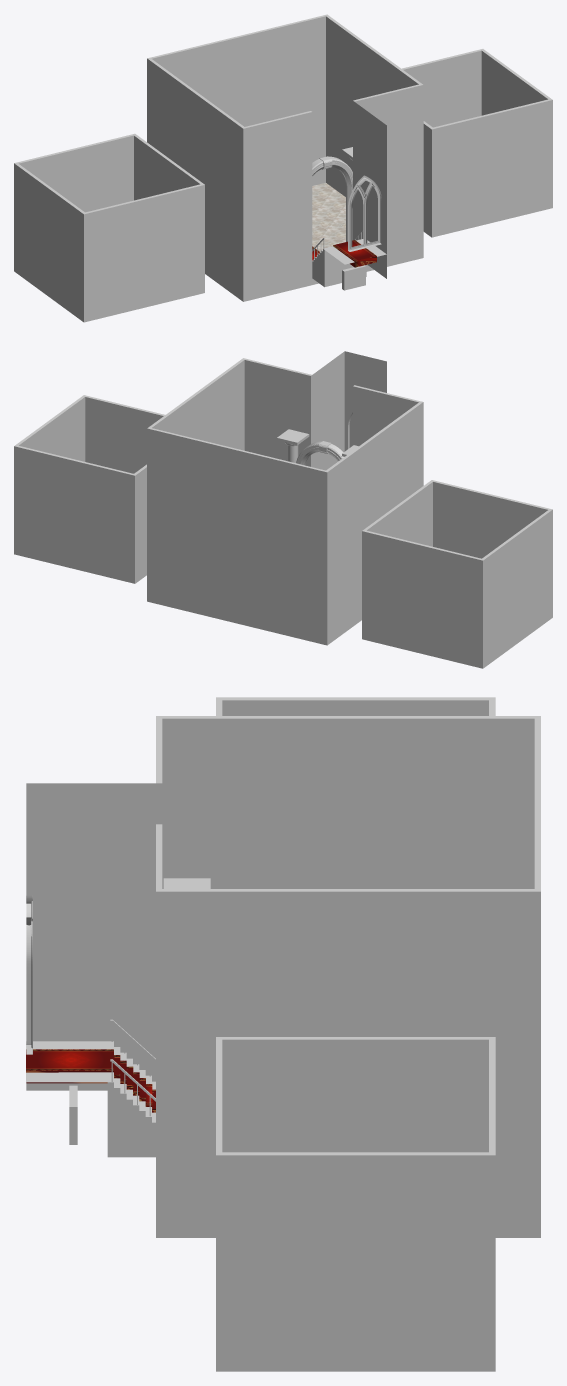
File: main_map.glb
3 views of the same model, one above another, from view 1: azimuth 30°, elevation 25°; view 2: azimuth 150°, elevation 25°; view 3: azimuth 270°, elevation 25° (orthographic). The views are drawn at different scales.
Visible parts, largest first — view 1: Main, Room 2, Kitchen, Main.001, Main Floor, Stairs, Window, Arch, Carpet; view 2: Main, Room 2, Kitchen, Main.001, Left Cylinder, Arch; view 3: Main, Kitchen, Main.001, Room 2, Stairs, Carpet, Window.
Boxes of the visible parts, <box> form: Main: <box>147,14,423,301</box>; Room 2: <box>14,133,204,322</box>; Kitchen: <box>402,49,552,237</box>; Main.001: <box>354,102,386,278</box>; Main Floor: <box>312,182,345,251</box>; Stairs: <box>312,239,386,287</box>; Window: <box>348,175,381,251</box>; Arch: <box>312,156,352,241</box>; Carpet: <box>312,240,376,267</box>; Main: <box>147,358,423,645</box>; Room 2: <box>362,480,552,668</box>; Kitchen: <box>14,395,164,583</box>; Main.001: <box>312,351,386,470</box>; Left Cylinder: <box>277,429,309,462</box>; Arch: <box>296,441,343,465</box>; Main: <box>156,716,540,1237</box>; Kitchen: <box>216,1037,495,1371</box>; Main.001: <box>26,783,155,1090</box>; Room 2: <box>216,697,495,715</box>; Stairs: <box>26,1041,155,1157</box>; Carpet: <box>26,1049,155,1112</box>; Window: <box>26,895,32,1054</box>.
Size of the model in its own units: 135 by 47.57 by 64.07.
Materials: 2 (2 with a texture image).
